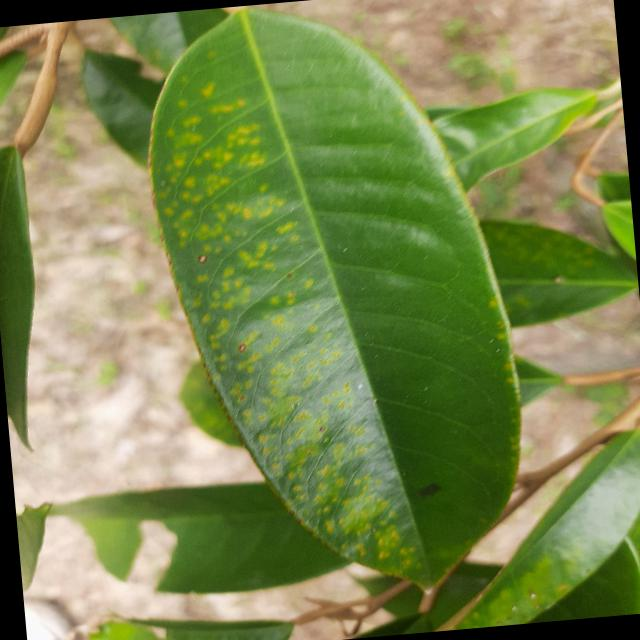Leaf Spot: (120, 0, 554, 622)
